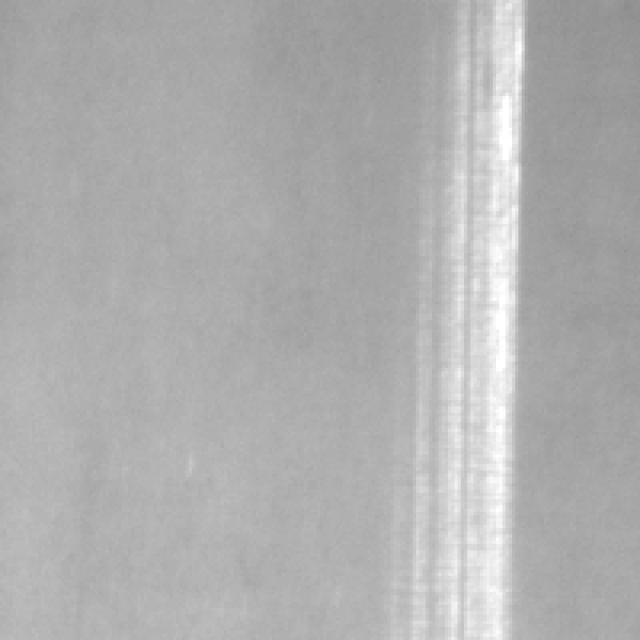scratches: (417, 1, 510, 639)
